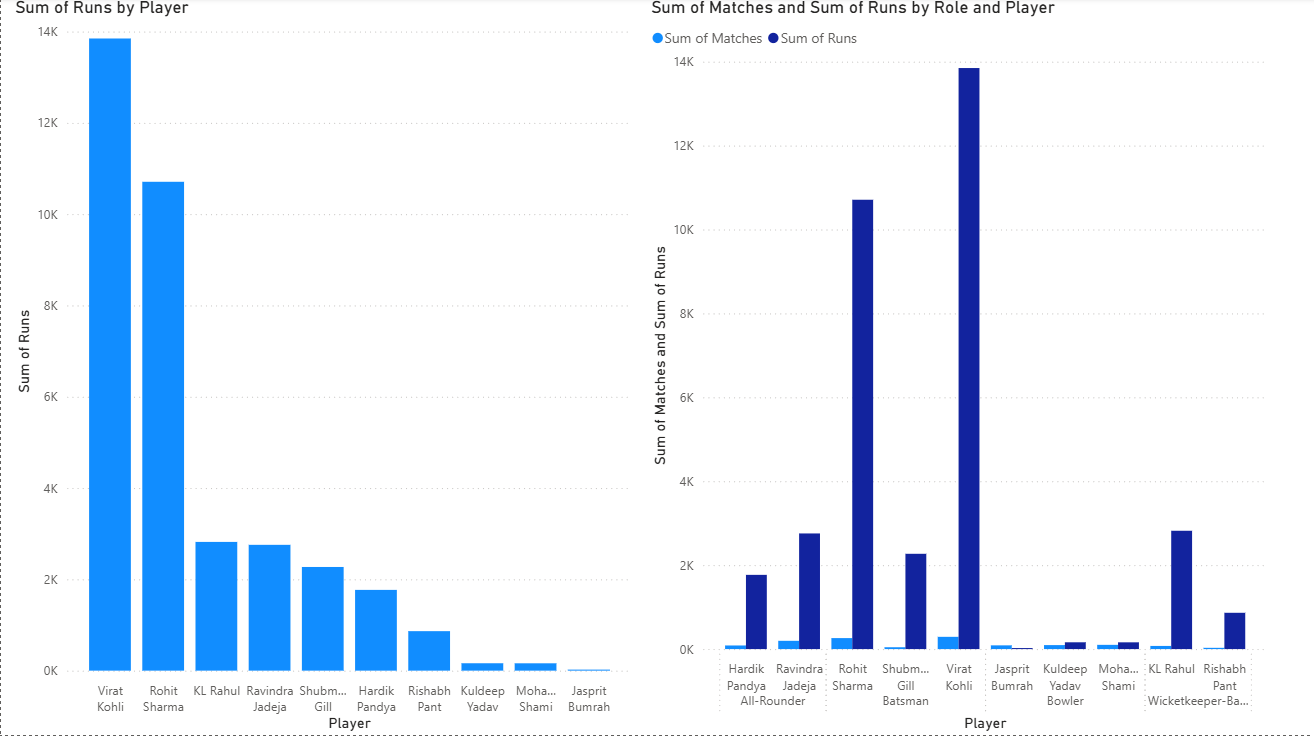

The dashboard page shown, as its layout file describes it:
{"tool":"powerbi","page":{"name":"Page 1","canvas":[1280,720],"ordinal":0},"visuals":[{"type":"columnChart","fields":{"Category":["indian_cricket_team_dataset (1).Player"],"Y":["Sum(indian_cricket_team_dataset (1).Runs)"]},"box":[9.4,0,610.4,720],"z":0},{"type":"clusteredColumnChart","fields":{"Category":["indian_cricket_team_dataset (1).Role","indian_cricket_team_dataset (1).Player"],"Y":["Sum(indian_cricket_team_dataset (1).Matches)","Sum(indian_cricket_team_dataset (1).Runs)"]},"box":[629,0,610,720],"z":1000}]}

Visuals, with their boxes in screenshot pixels (x1, y1, x2, y2), scaled from the page's 1280x720 canvas onto the 1314x736 screenshot:
columnChart - indian_cricket_team_dataset (1).Player x Sum(indian_cricket_team_dataset (1).Runs): region(10, 0, 636, 735)
clusteredColumnChart - indian_cricket_team_dataset (1).Role x indian_cricket_team_dataset (1).Player: region(646, 0, 1272, 735)
